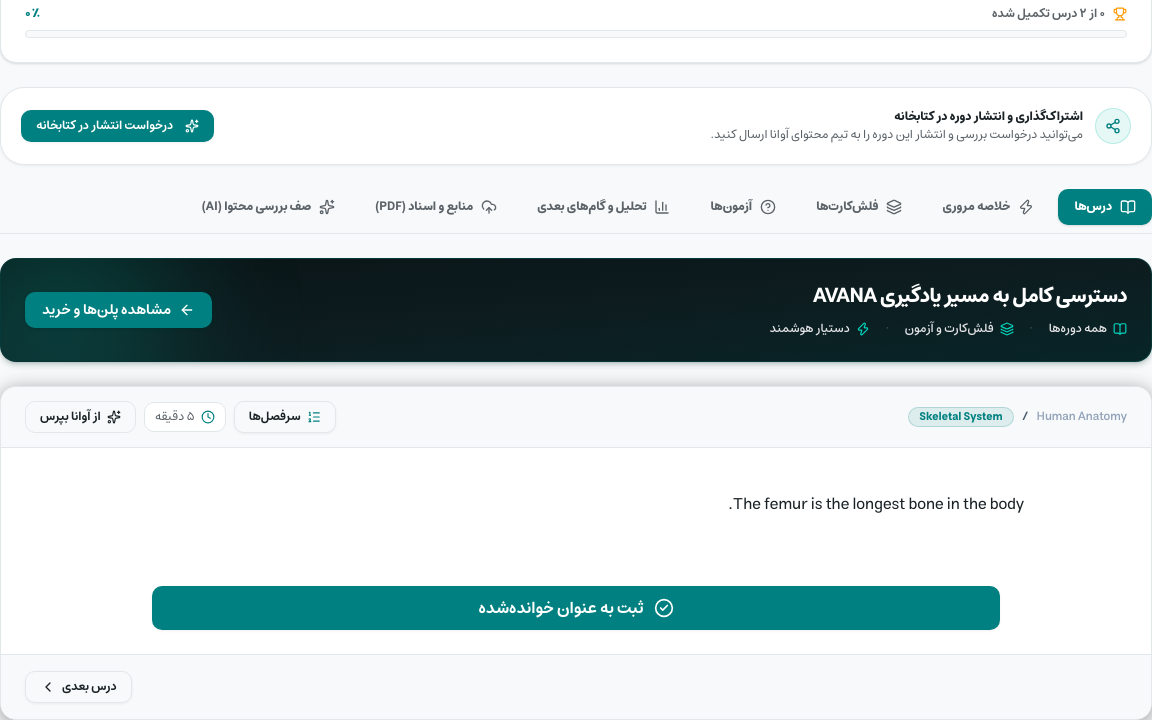
Test: PR6-9C UX Hardening: Lessons › renders a failure recovery alert if lesson completion save fails on backend
(page scrolled)
Expected: the text "The femur is the longest bone in the body." is shown, [728,490,1024,518]
Click the button "ثبت به عنوان خوانده‌شده". click: [576, 608]
box: [152,586,1000,630]
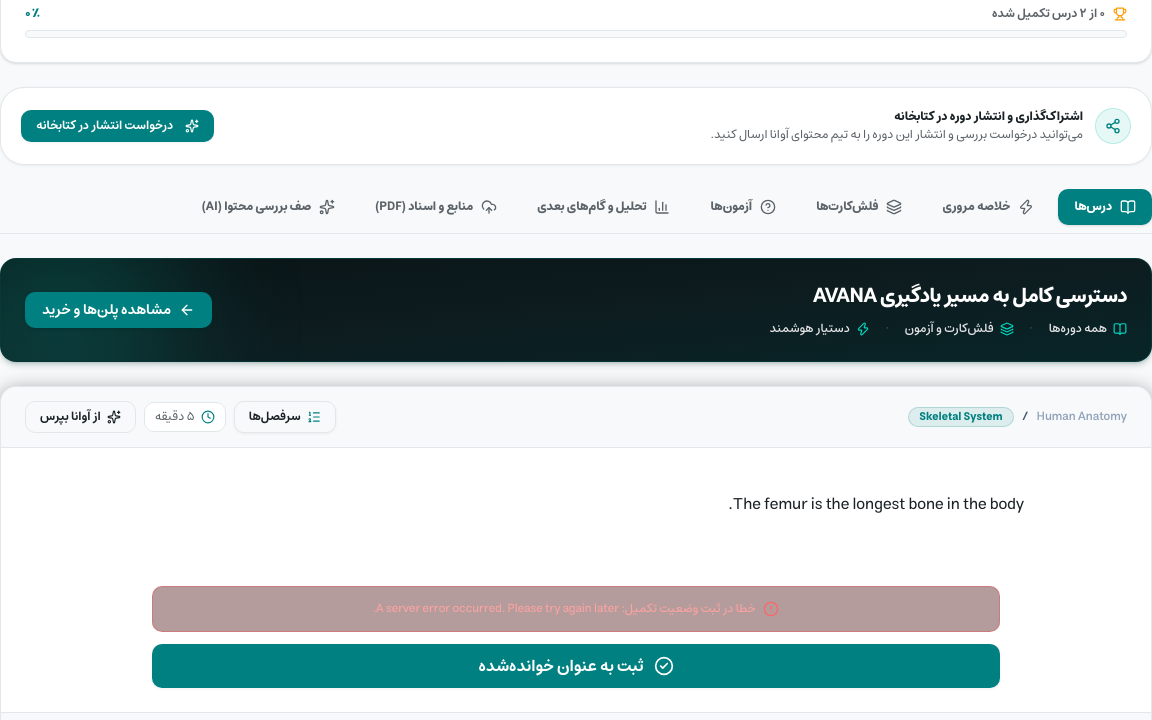
Now the text "خطا در ثبت وضعیت تکمیل" is shown, box [619,598,755,619]
